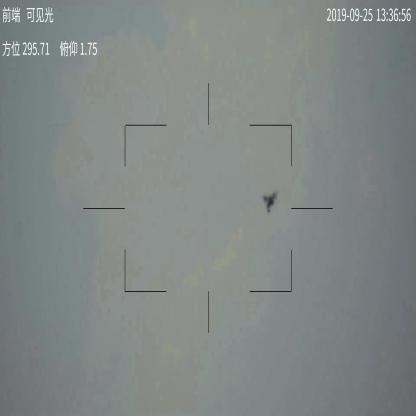uav: (260, 191, 279, 214)
